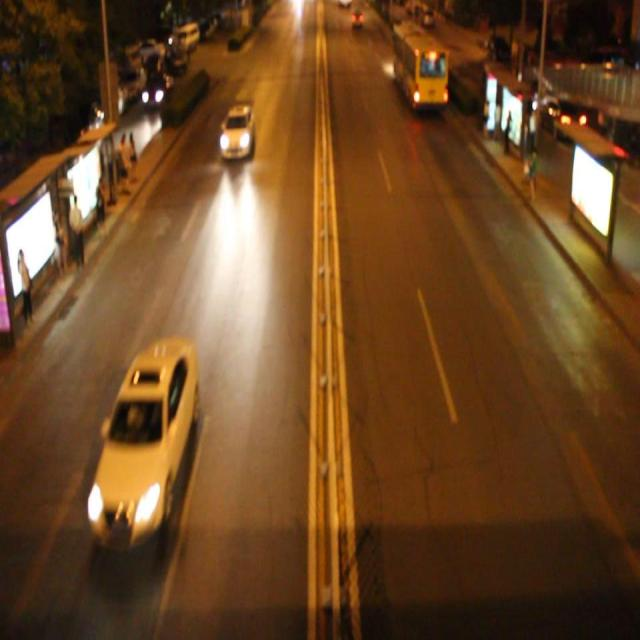car: (87, 333, 198, 552), (218, 102, 254, 160)
van: (393, 22, 448, 106)
